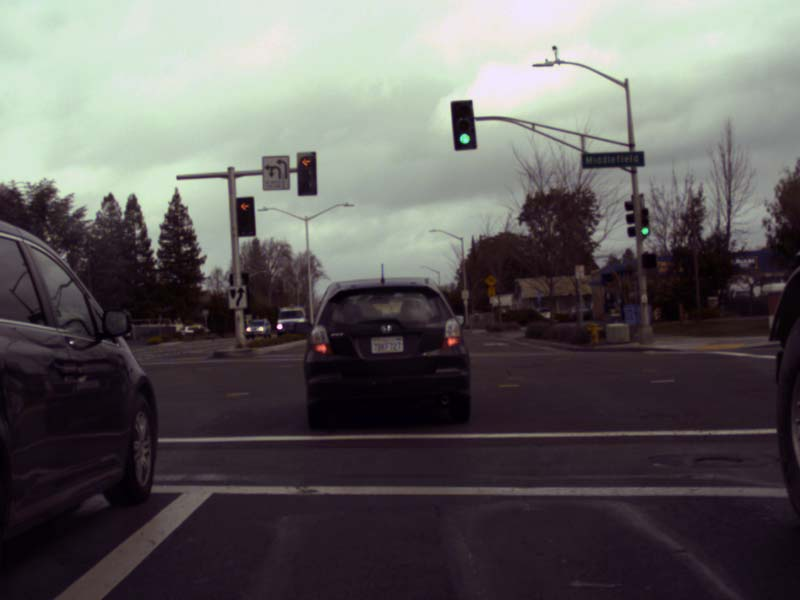Green: (451, 101, 475, 147), (640, 208, 648, 235)
Red: (297, 152, 314, 194), (236, 198, 253, 235)
